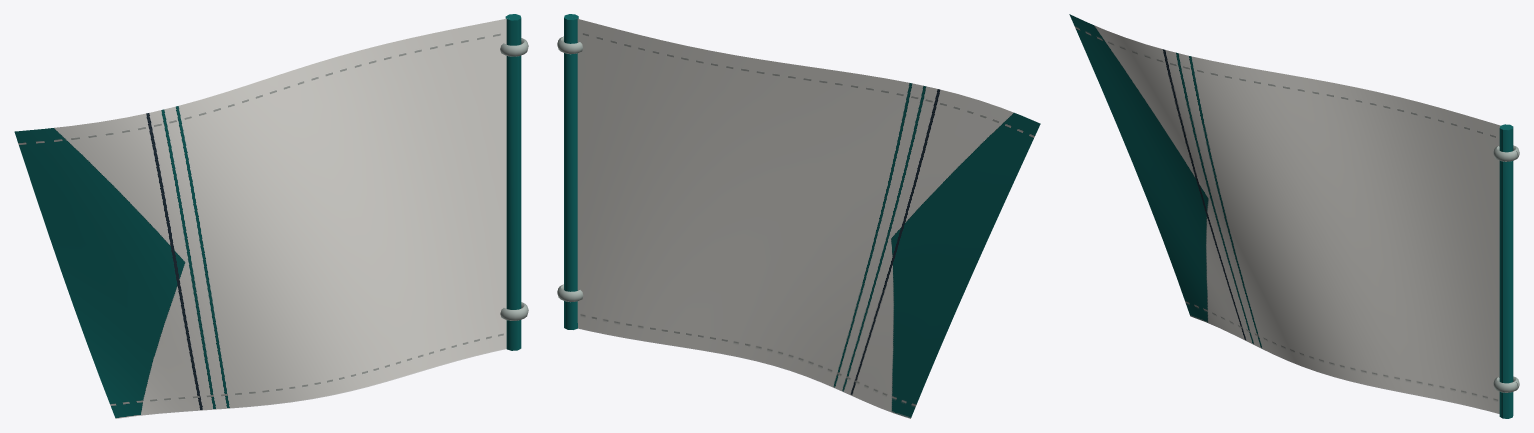
File: Pennant_12_R_碧線・剪断.glb
3 views of the same model, side by side, from view 1: azimuth 30°, elevation 25°; view 2: azimuth 150°, elevation 25°; view 3: azimuth 330°, elevation 25° (orthographic). The views are drawn at different scales.
Visible parts, largest first — view 1: Pennant_12_R; view 2: Pennant_12_R; view 3: Pennant_12_R.
Boxes of the visible parts, box(x1,y1,x2,y2) form: Pennant_12_R: box(14, 14, 528, 418); Pennant_12_R: box(557, 14, 1040, 418); Pennant_12_R: box(1069, 14, 1519, 418).
Size of the model in its own units: 0.2925 by 0.1844 by 0.0308.
Materials: 3 (3 with a texture image).
